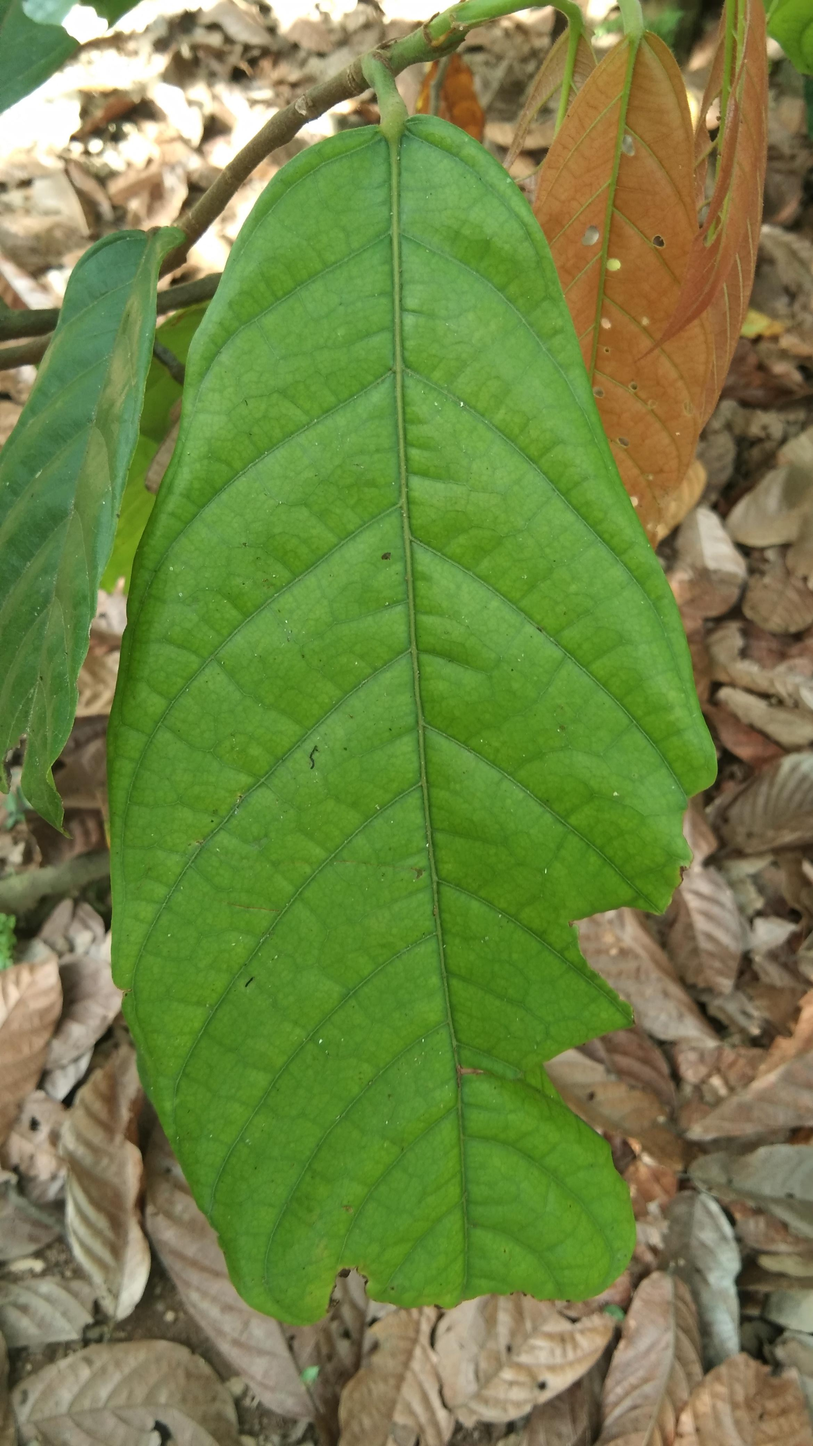deficiencia_potasio: (98, 125, 719, 1328)
